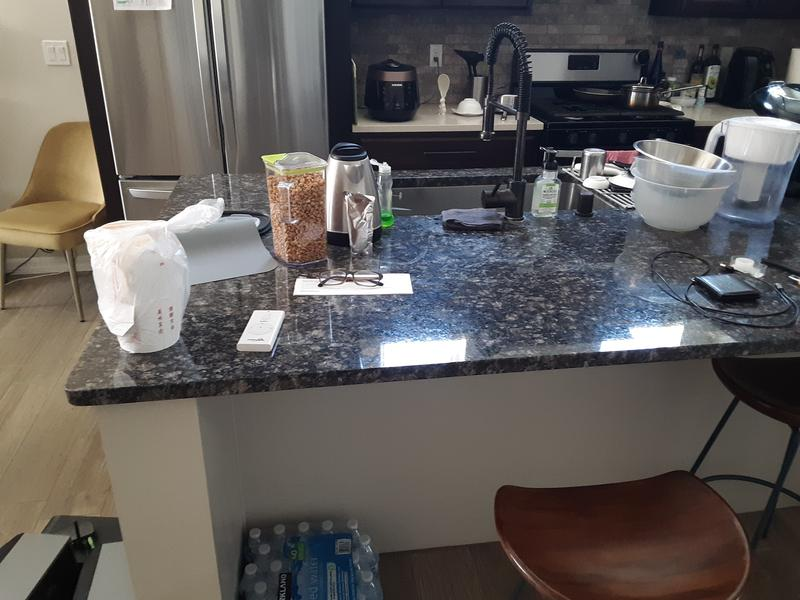glasses: (317, 265, 387, 289)
